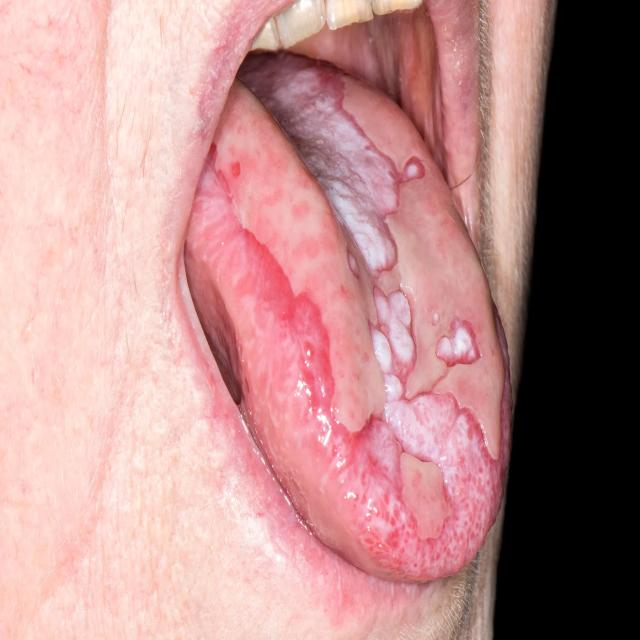leukoplakia-like-detection: (184, 43, 513, 579)
processing_area: (181, 2, 509, 588)
